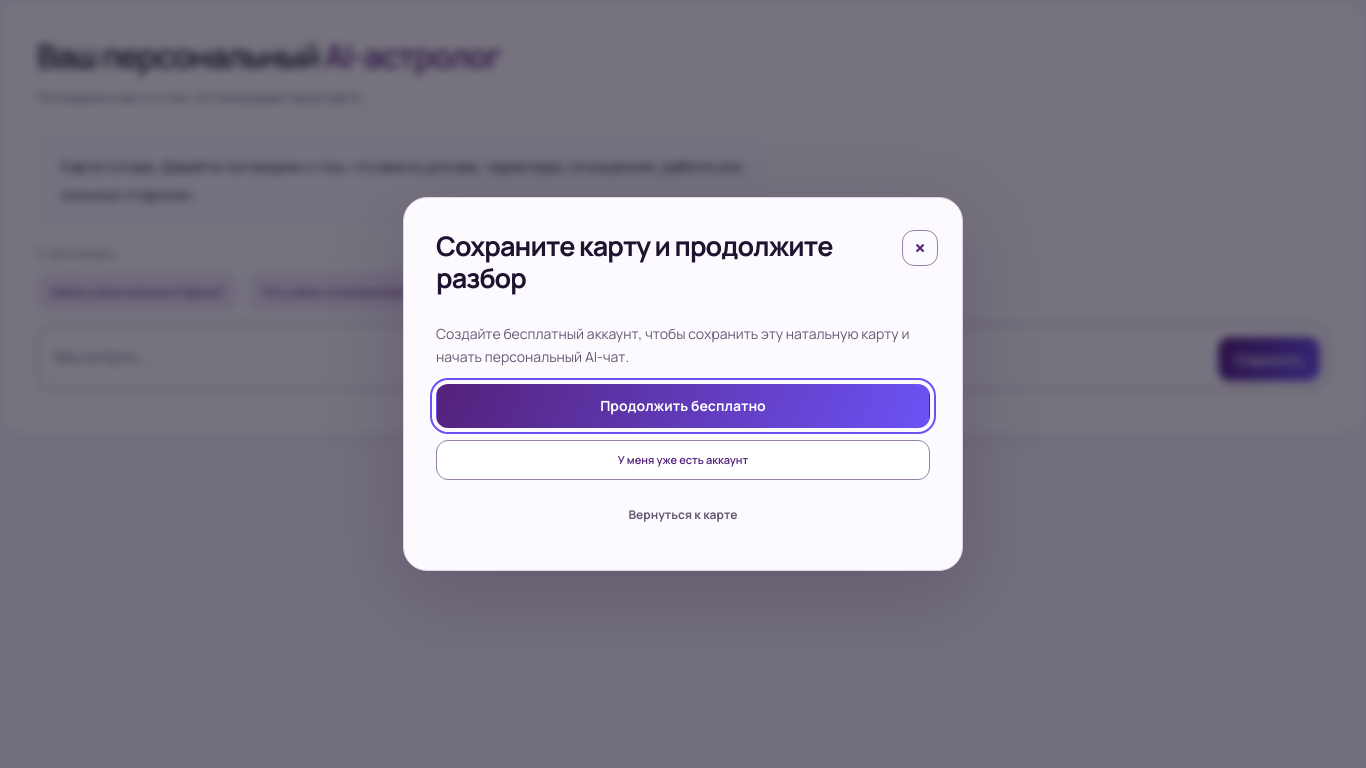
Test: guest window is a labelled modal dialog: focus moves in, then returns to the composer without reopening
The width and height of the screenshot is (1366, 768).
Expected: the heading "Сохраните карту и продолжите разбор" is shown, [436,227,833,296]
Click the button "Вернуться к карте" at x=683, y=515, box [436,492,930,538]
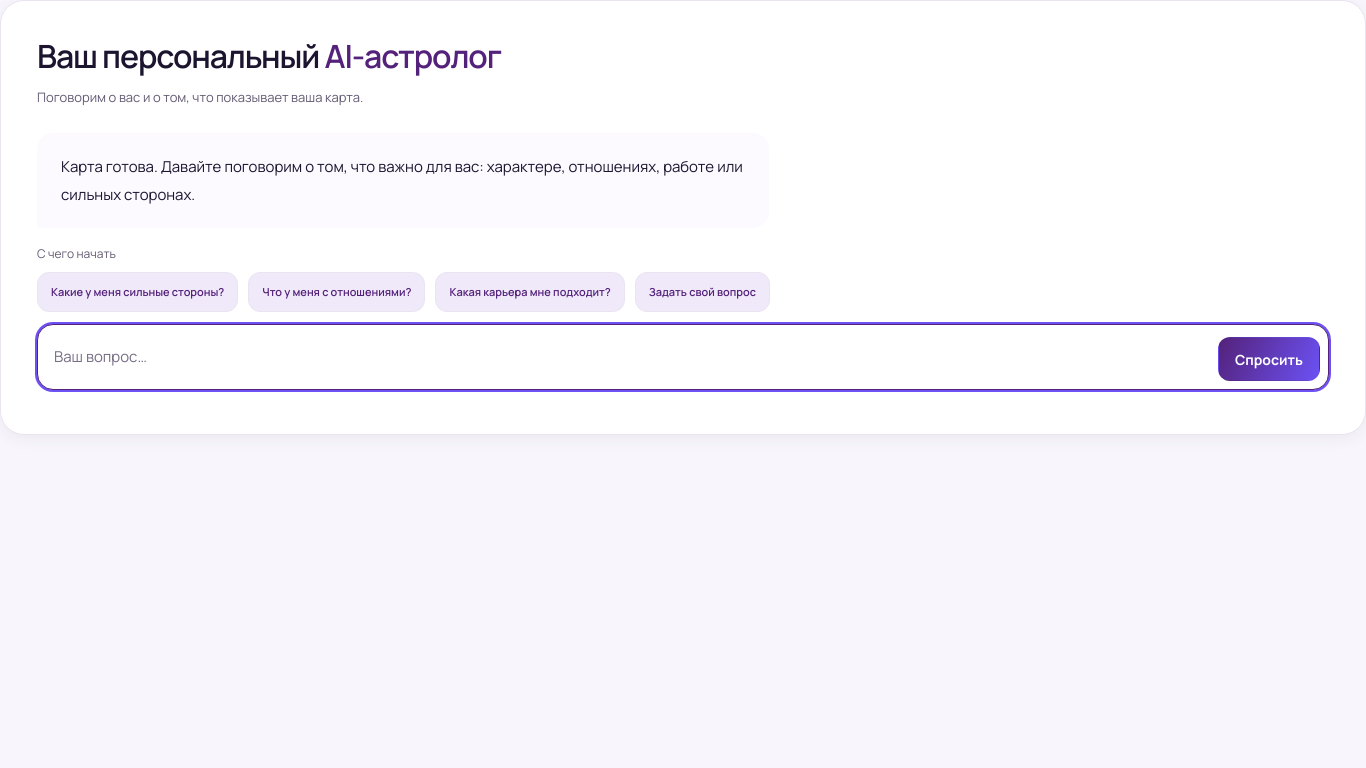
Now the dialog is gone
